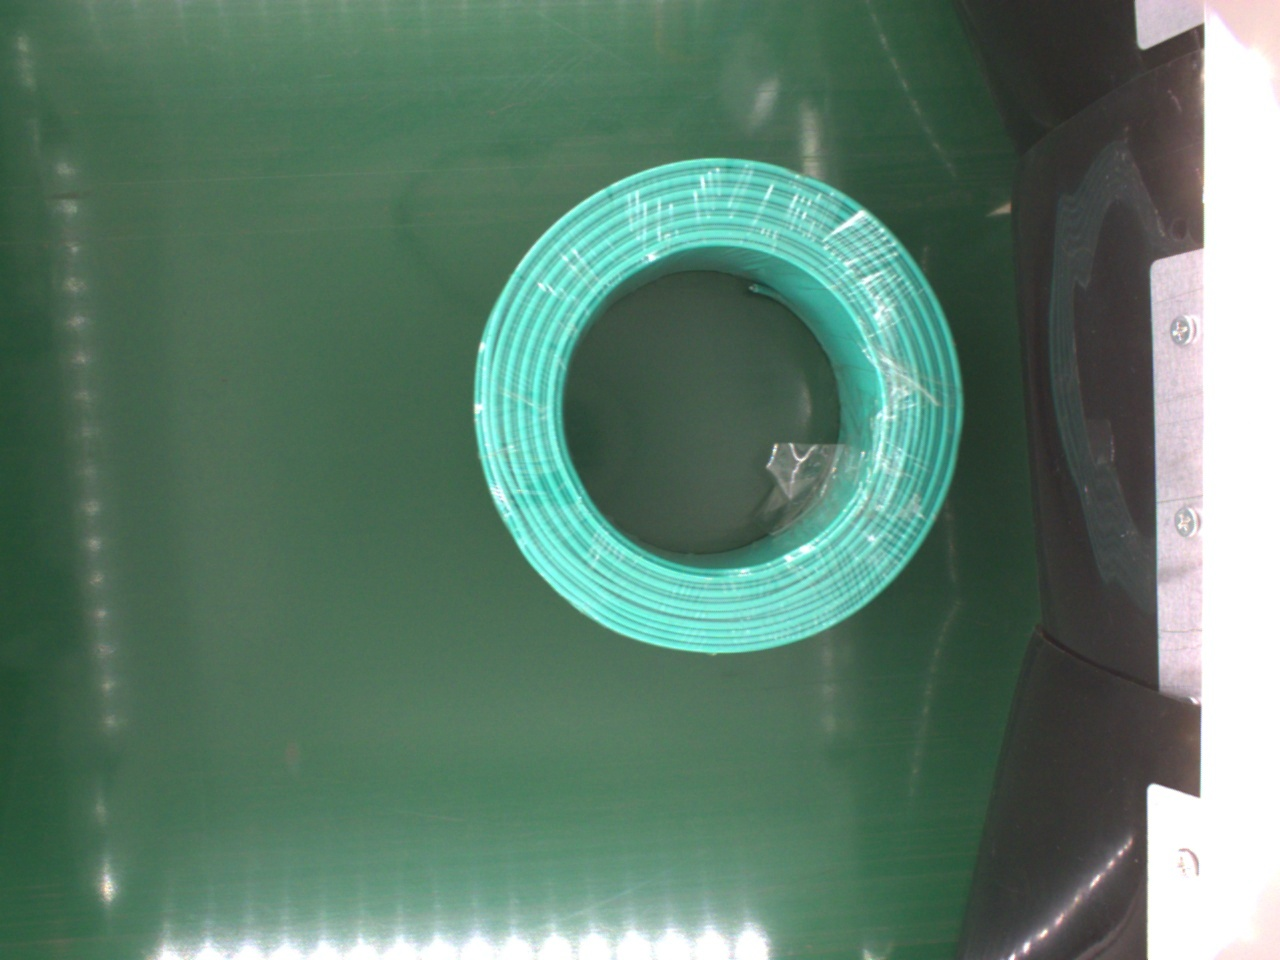green: (466, 154, 964, 650)
